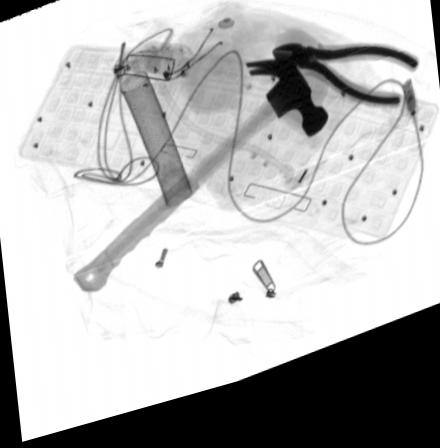Hammer: (72, 75, 330, 297)
Pliers: (271, 59, 420, 129)
